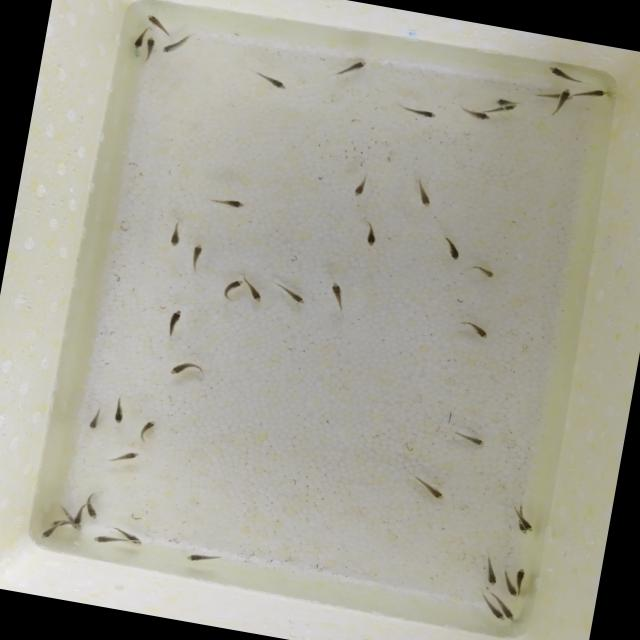fingerling: (406, 472, 452, 503), (164, 358, 210, 387), (322, 278, 353, 318), (408, 173, 439, 211), (329, 54, 370, 82), (248, 68, 294, 92), (272, 279, 310, 307), (504, 504, 538, 534), (160, 30, 194, 60), (203, 192, 249, 214), (160, 304, 186, 342), (449, 426, 488, 451), (545, 84, 572, 120), (395, 100, 439, 122), (542, 63, 586, 85), (454, 316, 492, 341), (183, 546, 226, 567), (478, 554, 504, 588), (348, 168, 374, 202), (240, 270, 266, 304), (357, 218, 384, 250), (185, 238, 209, 274), (104, 446, 140, 470), (132, 416, 160, 446), (437, 233, 465, 262), (165, 217, 188, 250), (108, 393, 130, 426), (144, 12, 174, 36), (80, 488, 102, 520), (219, 276, 244, 304), (574, 84, 608, 104), (462, 262, 499, 280), (84, 403, 105, 434), (140, 35, 160, 65), (37, 518, 59, 543), (90, 530, 122, 546), (492, 96, 522, 112), (130, 25, 148, 50), (462, 109, 494, 123), (120, 529, 146, 546), (66, 514, 84, 532), (485, 605, 505, 621), (501, 580, 519, 597), (501, 604, 516, 622), (512, 564, 526, 582)
